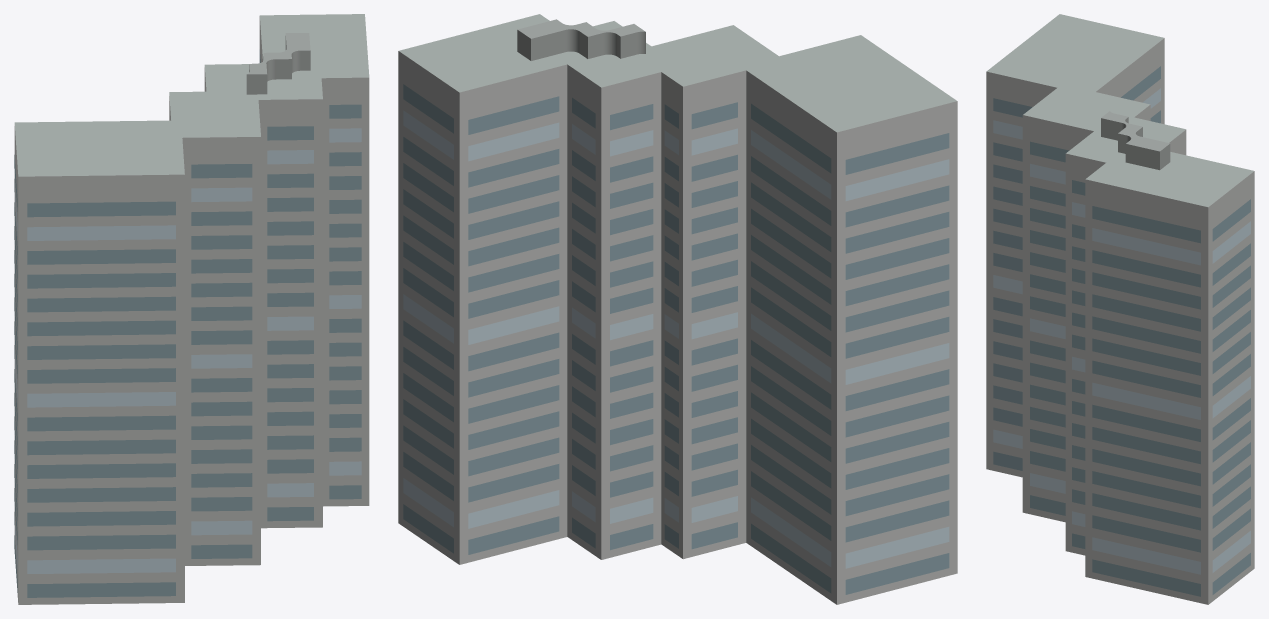
Rendered from apt-a12179002.glb.
The picture shows the model from 3 angles, left to right: view 1: azimuth 30°, elevation 25°; view 2: azimuth 150°, elevation 25°; view 3: azimuth 270°, elevation 25°; orthographic projection. The views are drawn at different scales.
Parts seen in each view (by area): view 1: apt-a12179002; view 2: apt-a12179002; view 3: apt-a12179002.
Boxes of the visible parts, bbox=[...] form: apt-a12179002: bbox=[14, 14, 369, 604]; apt-a12179002: bbox=[398, 14, 957, 604]; apt-a12179002: bbox=[986, 14, 1254, 604].
Size of the model in its own units: 45.8 by 46 by 26.86.
